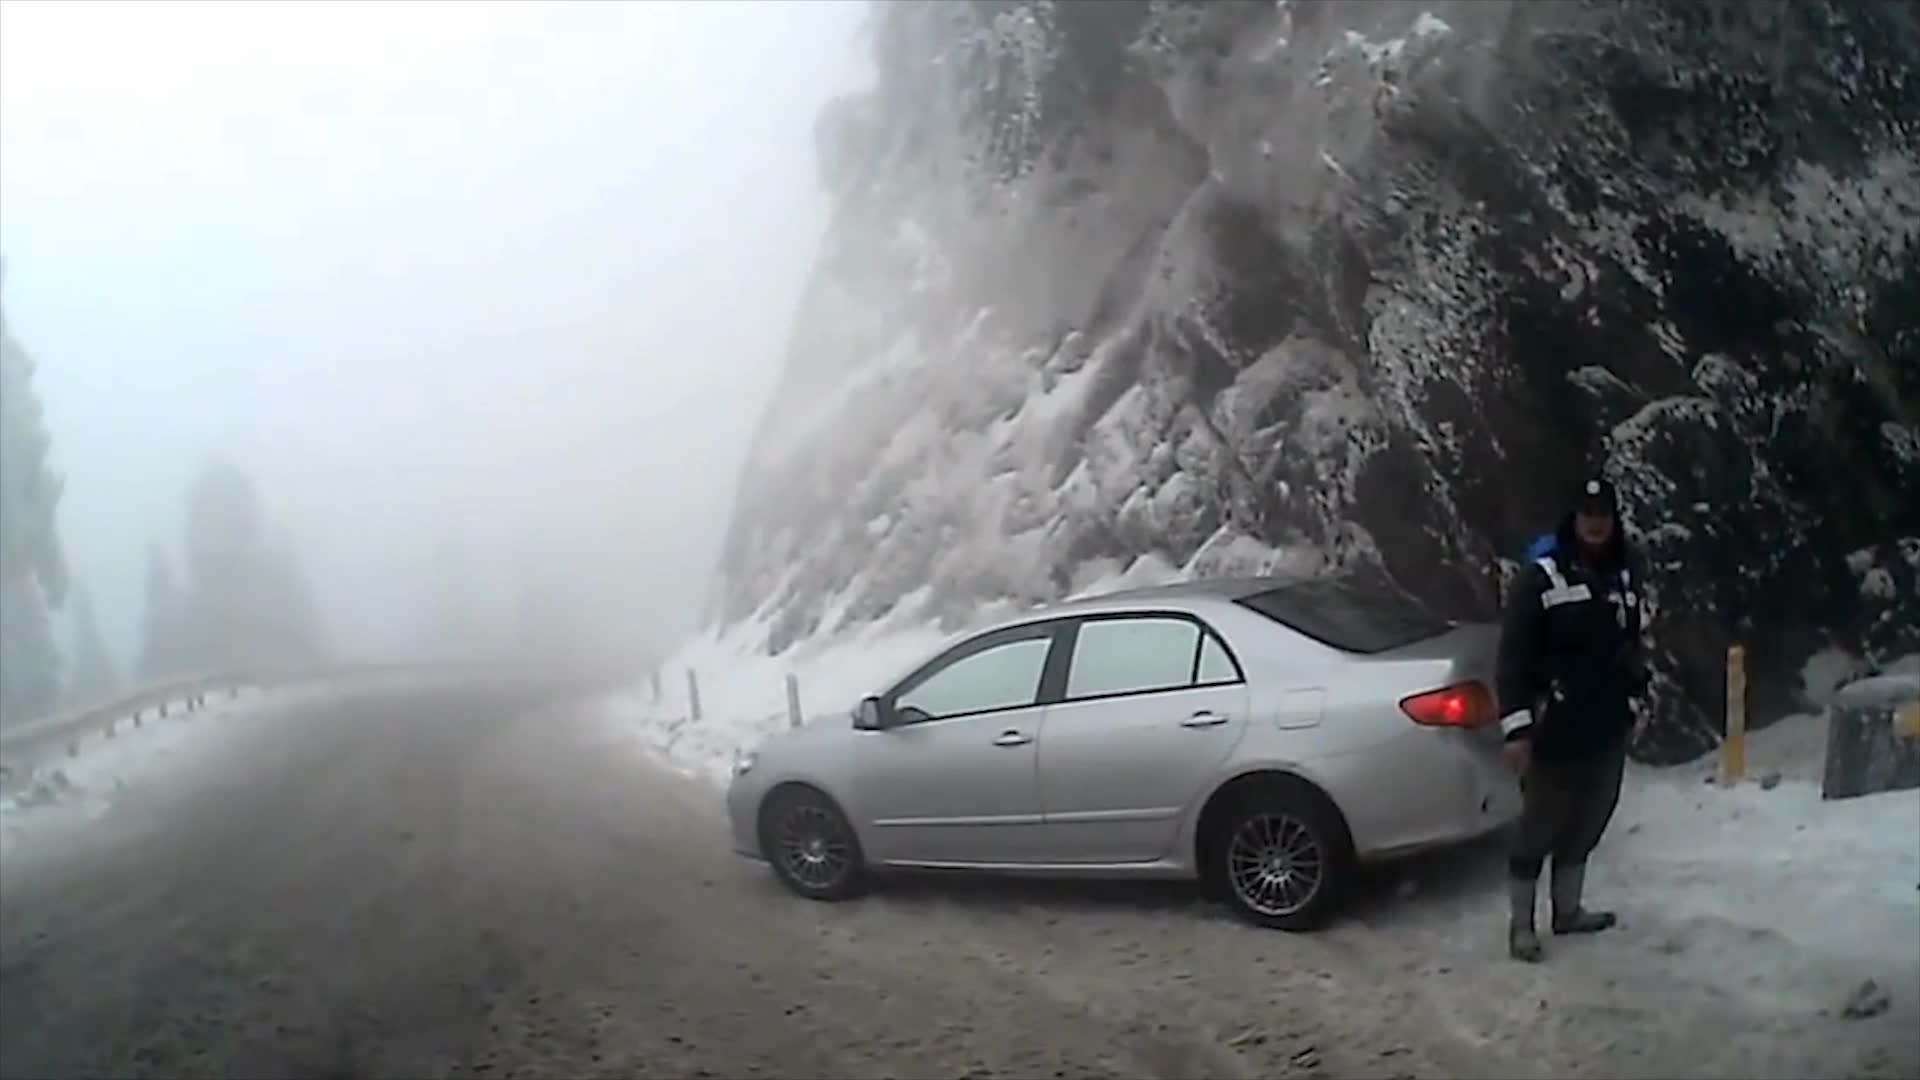pedestrian: (1492, 478, 1656, 965)
vehicle: (724, 574, 1588, 930)
